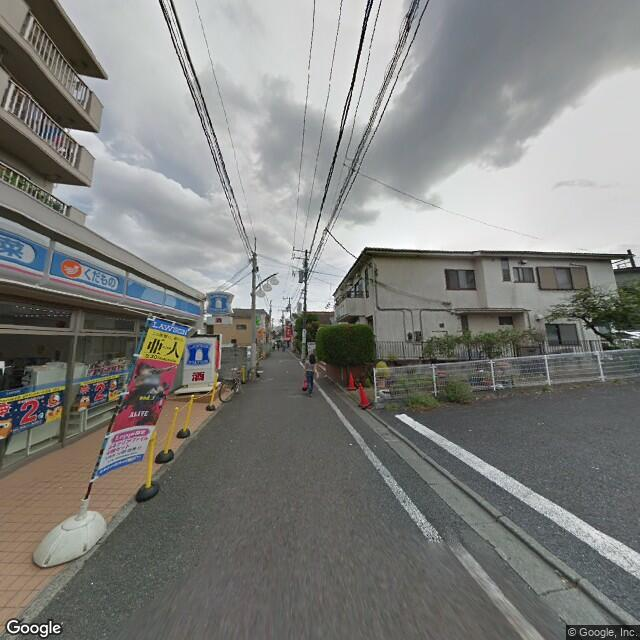lawson: (1, 219, 202, 324), (148, 313, 190, 337), (204, 285, 231, 321), (185, 339, 214, 372)
